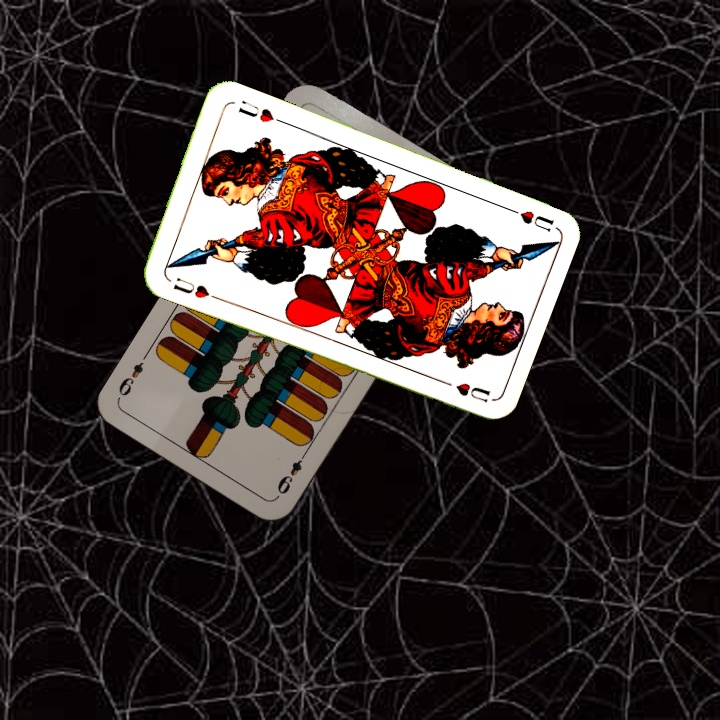E9: (273, 446, 310, 500)
HU: (500, 202, 556, 235), (169, 273, 212, 301)
